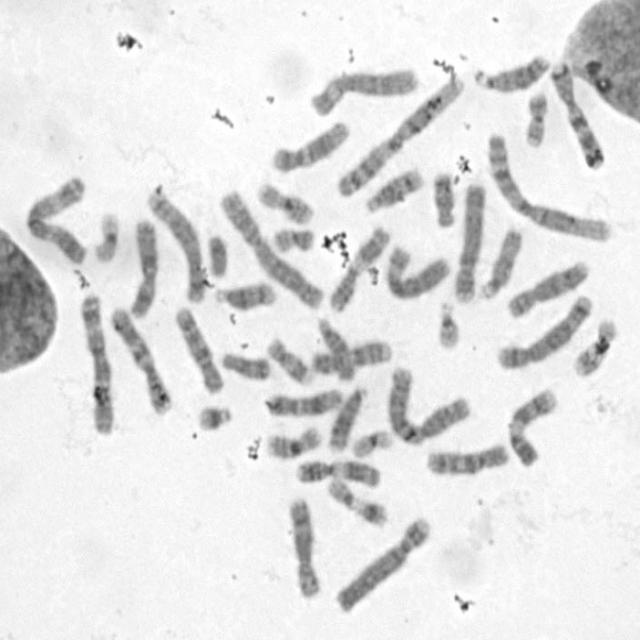A1: (333, 75, 464, 199), (485, 128, 613, 244)
A2: (219, 188, 325, 313), (386, 366, 472, 446)
A3: (22, 176, 91, 268), (76, 292, 116, 437)
B4: (334, 516, 433, 614), (452, 183, 490, 306)
B5: (498, 294, 593, 372), (148, 189, 205, 304)
C10: (173, 305, 227, 399), (425, 444, 512, 478)
C11: (328, 224, 389, 315), (293, 457, 381, 489)
C12: (271, 122, 350, 174), (262, 386, 348, 418)
C6: (308, 67, 419, 119), (383, 245, 451, 301)
C7: (110, 303, 174, 417), (548, 61, 606, 171)
C8: (507, 259, 592, 319), (287, 496, 324, 600)
C9: (507, 385, 560, 469), (310, 340, 393, 379)
D13: (471, 53, 551, 95), (326, 387, 368, 453)
D14: (363, 166, 427, 215), (214, 280, 276, 312)
D15: (476, 227, 524, 302), (314, 316, 356, 382)
E16: (256, 180, 316, 228), (264, 426, 322, 462)
E17: (572, 316, 619, 380), (264, 337, 314, 387)
E18: (431, 170, 458, 229), (221, 351, 270, 382)
F19: (347, 428, 395, 464), (92, 210, 121, 264)
F20: (523, 90, 549, 148), (271, 227, 318, 254)
G21: (356, 496, 388, 530), (196, 406, 234, 432)
G22: (435, 299, 462, 352), (328, 474, 358, 510)
X: (128, 219, 158, 319)
Y: (206, 236, 230, 279)
